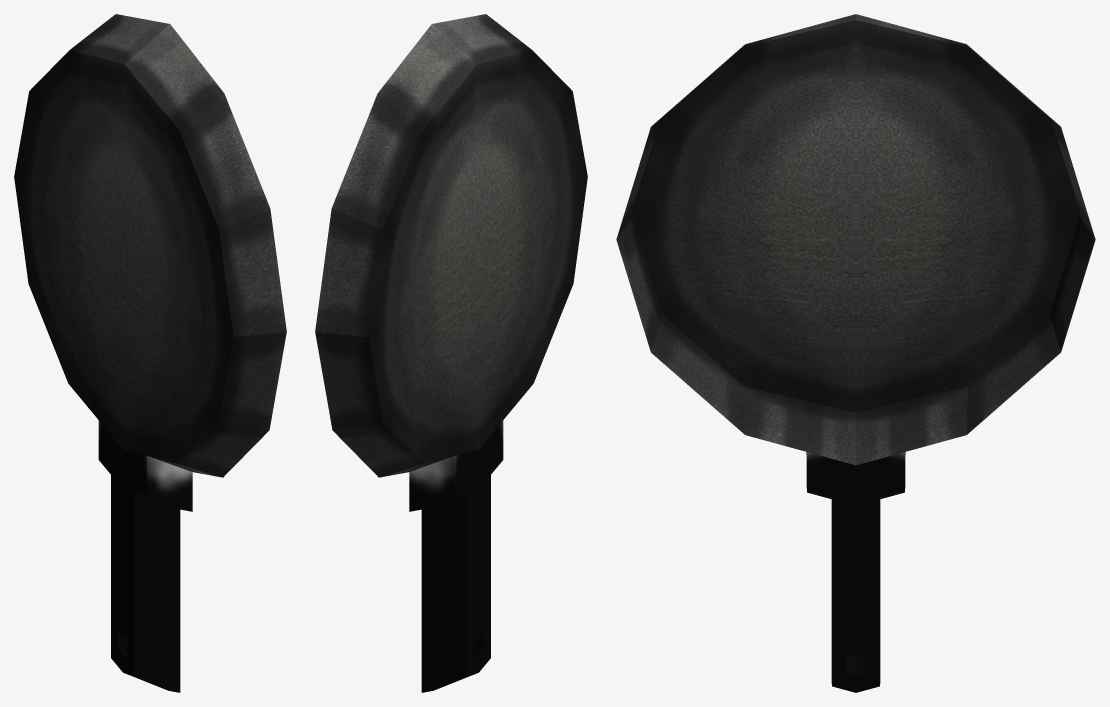
The model's file is sarten.obj.
3 views of the same model, side by side, from view 1: azimuth 30°, elevation 25°; view 2: azimuth 150°, elevation 25°; view 3: azimuth 270°, elevation 25° (orthographic). The views are drawn at different scales.
Visible parts, largest first — view 1: Cube; view 2: Cube; view 3: Cube.
Part boxes in pixels (x1=…): Cube: x1=14, y1=14, x2=286, y2=692; Cube: x1=315, y1=14, x2=587, y2=692; Cube: x1=616, y1=14, x2=1095, y2=692.
Bounding box in the file's own units: 0.2013 × 2.72 × 1.74.
Materials: 1 (1 with a texture image).
